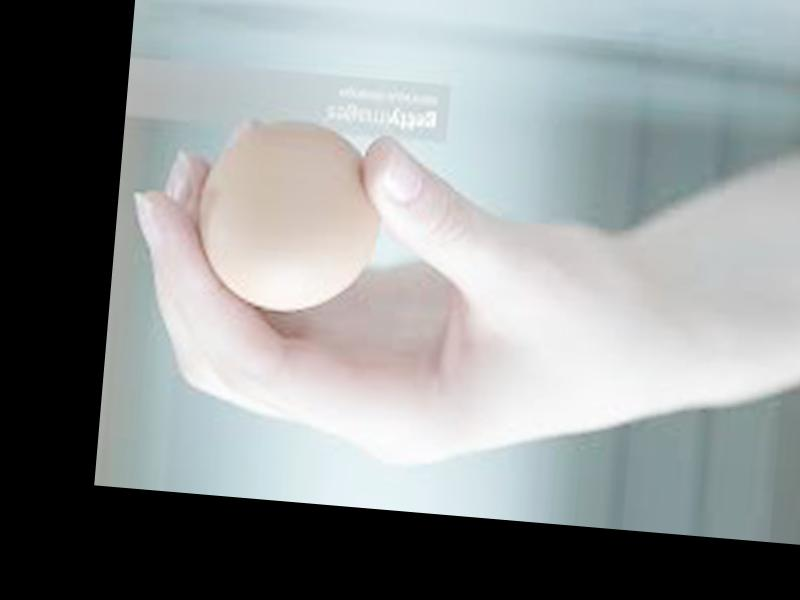Eggs: (191, 110, 391, 321)
